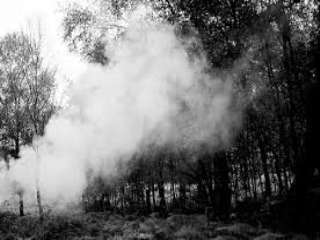smoke: (22, 52, 181, 214)
